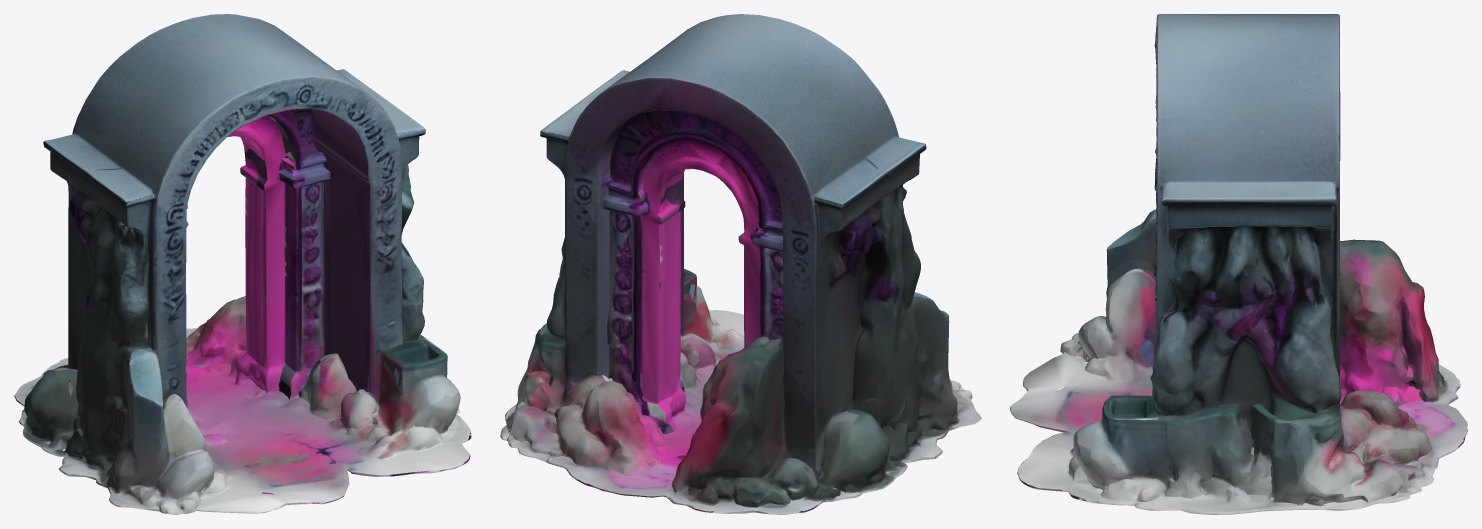
Rendered from wasteland-archway-generated-2026-05-17T19-07-26-612Z.medium.glb.
3 views of the same model, side by side, from view 1: azimuth 30°, elevation 25°; view 2: azimuth 150°, elevation 25°; view 3: azimuth 270°, elevation 25° (orthographic). The views are drawn at different scales.
Visible parts, largest first — view 1: temp_mesh.ply; view 2: temp_mesh.ply; view 3: temp_mesh.ply.
Boxes of the visible parts, x1,y1,x2,y2 form: temp_mesh.ply: (14,14,471,514); temp_mesh.ply: (500,14,981,514); temp_mesh.ply: (1010,14,1467,514).
Bounding box in the file's own units: 1.96 × 1.87 × 1.97.
Materials: 1 (1 with a texture image).
